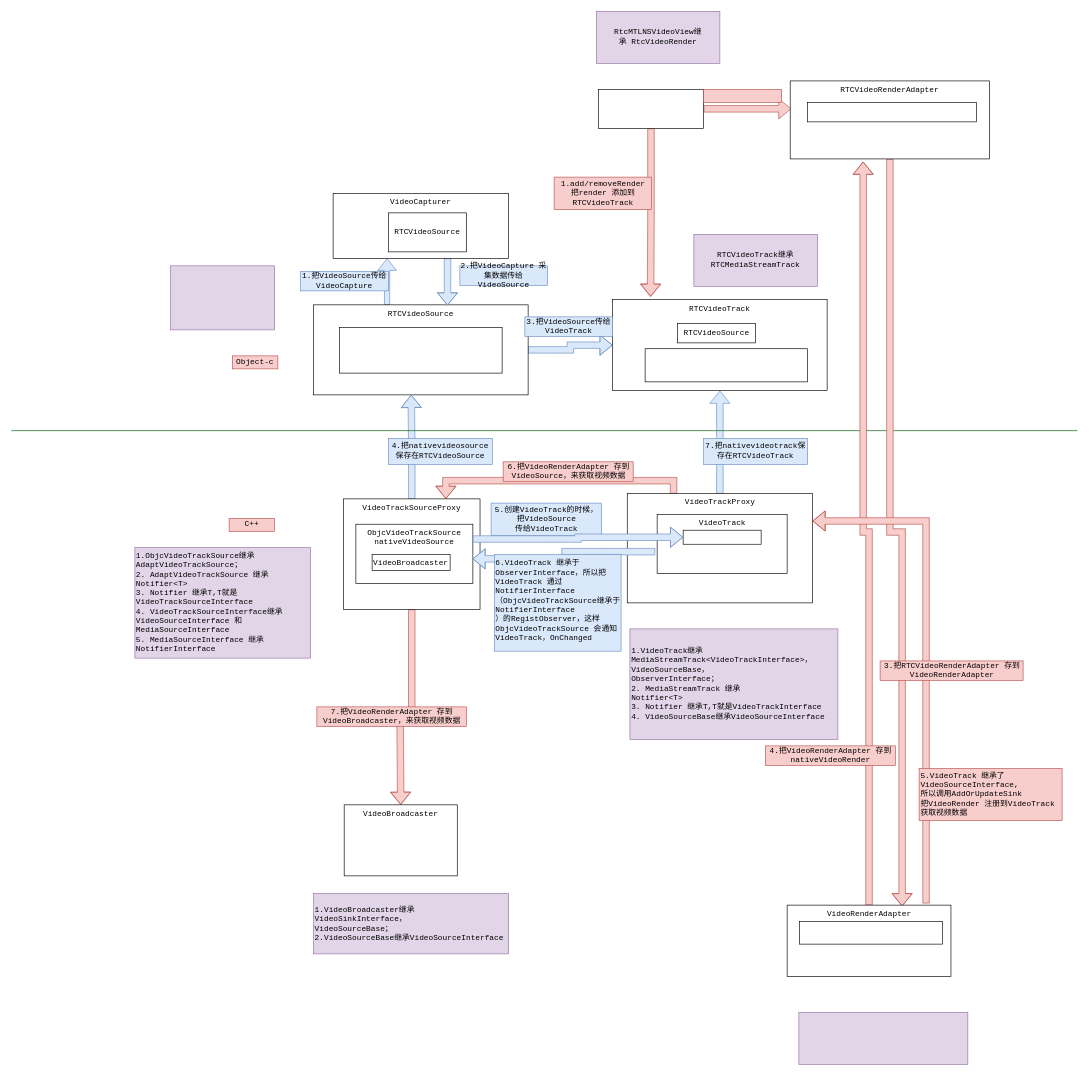
This 1089x1076 diagram has some shape labels left out. The centre of each missing label's shape, as x and y in pixels:
2.render 添加到: point 742,95
RtcMTLNSVideoView: point 651,108
RTCVideoRenderAdapter adapter_: point 870,932
RTCVideoSource继承 RTCMediaSourcde 实现 RTCVideoCasptureDelegate: point 222,297
VideoRenderAdapter nativeVideoRender: point 892,112
VideoRenderAdapter继承 VideoSinkInterface<VideoFrame>: point 883,1038
VideoTrackInterface nativeVideoTrack: point 726,365
VideoTrackSource: point 721,537
VideoTrackSourceInterface nativeVideoSource: point 420,350
